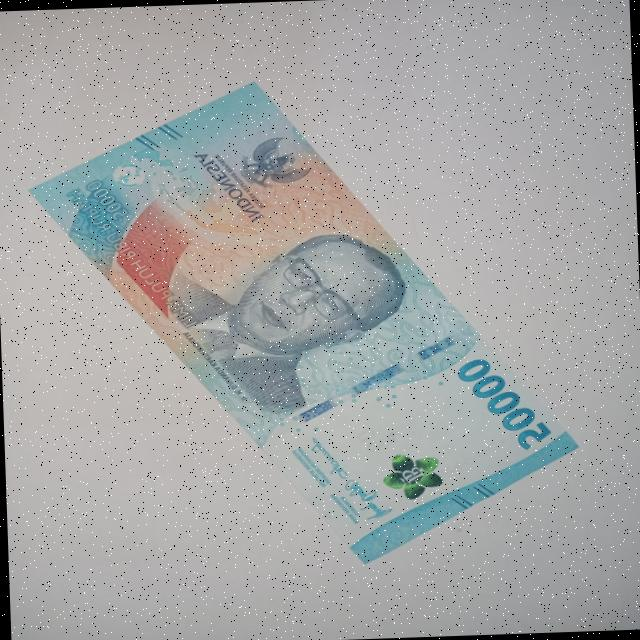50K: (21, 68, 592, 578)
